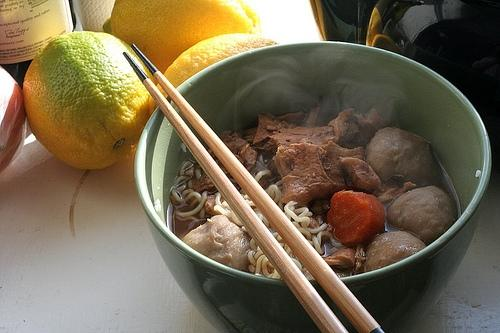carrot: (326, 188, 385, 246)
lemon: (23, 31, 155, 170), (110, 0, 262, 75), (148, 33, 279, 117)
